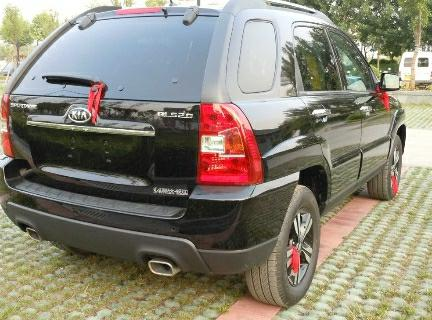car: (0, 3, 412, 307)
